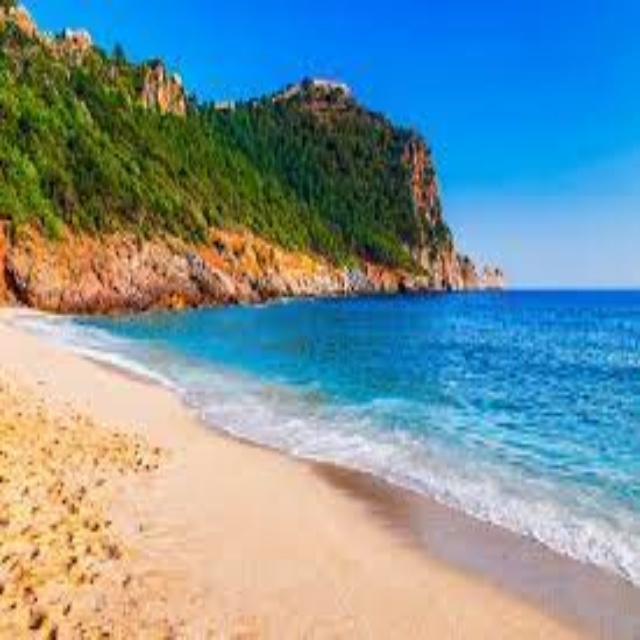linhaEspraiamento: (189, 395, 638, 633), (74, 344, 253, 418), (10, 322, 158, 372)
